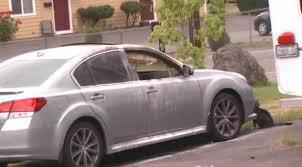doorouter-dent: (145, 48, 191, 133)
